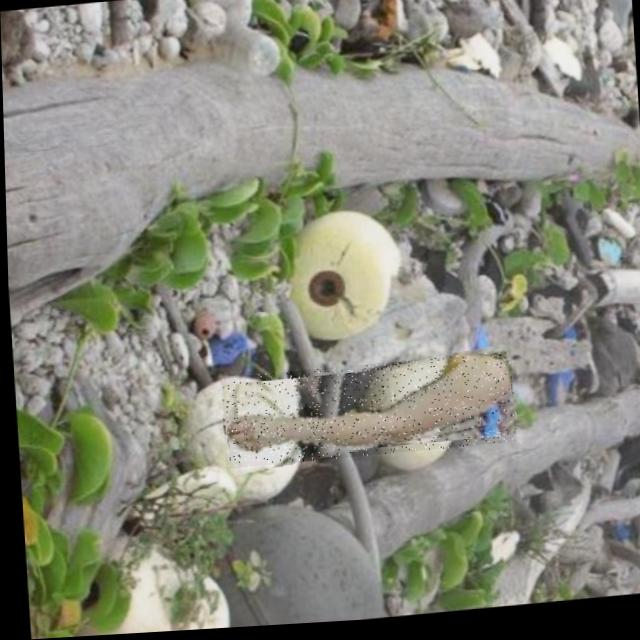Person in Rubble: (216, 357, 513, 471)
